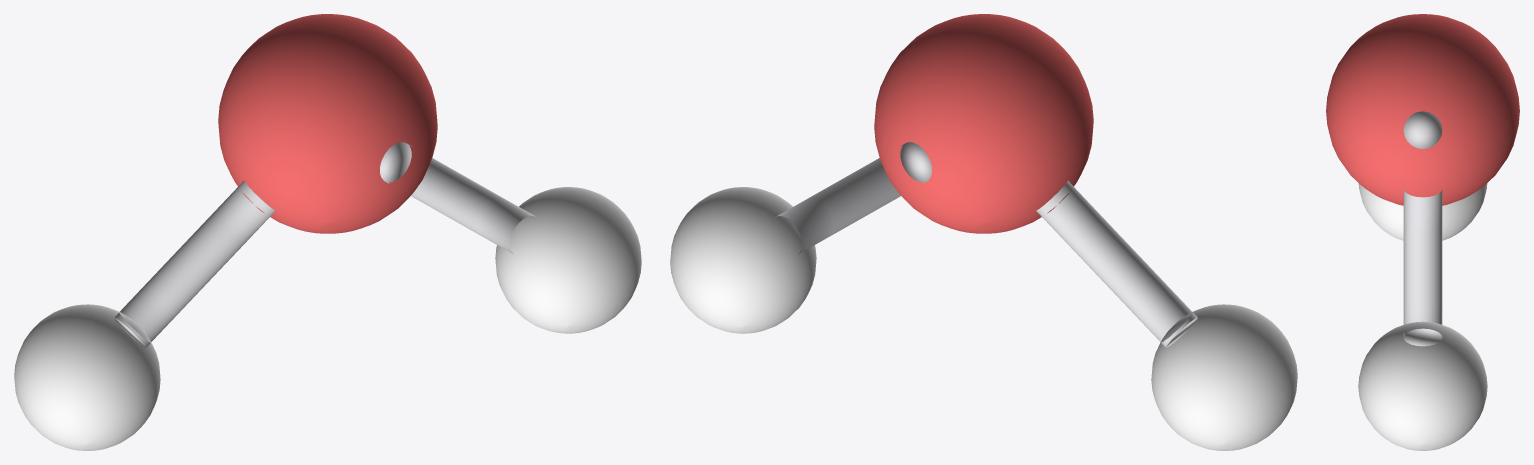
File: water_molecule_v1.glb
The picture shows the model from 3 angles, left to right: view 1: azimuth 30°, elevation 25°; view 2: azimuth 150°, elevation 25°; view 3: azimuth 270°, elevation 25°; orthographic projection. The views are drawn at different scales.
Parts seen in each view (by area): view 1: oxygen, hydrogen_2, hydrogen_1, bond_2, bond_1; view 2: oxygen, hydrogen_2, hydrogen_1, bond_2, bond_1; view 3: oxygen, hydrogen_1, bond_1, hydrogen_2, bond_2.
Part boxes in pixels (<box>): oxygen: <box>218,14,437,233</box>; hydrogen_2: <box>14,304,160,450</box>; hydrogen_1: <box>495,187,641,333</box>; bond_2: <box>114,180,275,347</box>; bond_1: <box>380,142,535,254</box>; oxygen: <box>874,14,1093,233</box>; hydrogen_2: <box>1151,304,1297,450</box>; hydrogen_1: <box>670,187,816,333</box>; bond_2: <box>1036,180,1197,347</box>; bond_1: <box>776,142,931,254</box>; oxygen: <box>1326,14,1519,205</box>; hydrogen_1: <box>1358,321,1487,450</box>; bond_1: <box>1403,189,1442,346</box>; hydrogen_2: <box>1358,183,1487,240</box>; bond_2: <box>1403,111,1442,148</box>.
Size of the model in its own units: 1.92 by 1.09 by 0.6.
